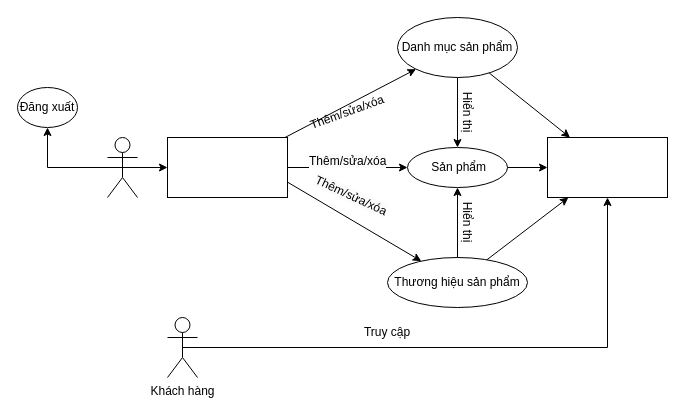
Some shapes in this 685 by 416 pixel diagram are drawn without their labels. The centre of each missing label's shape, as x and y in pixels:
"Admin" goes at (x=122, y=167).
"Trang admin" goes at (x=227, y=167).
"Trang index" goes at (x=607, y=167).
